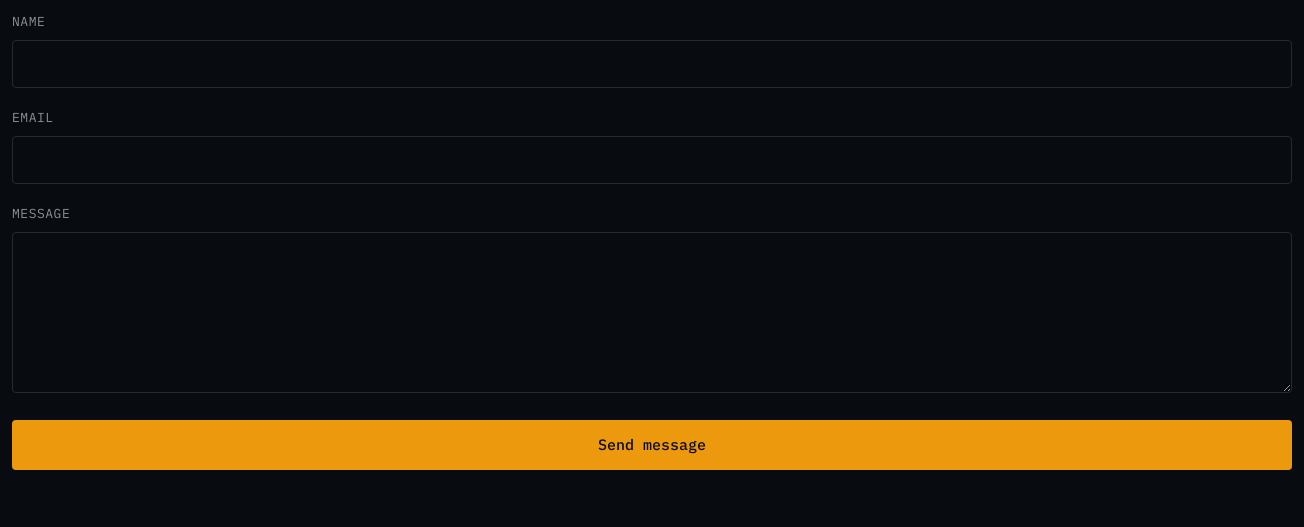
Scenario: ContactForm › reports success and clears the form
In the field labelled "Name": coordinates (652, 64) [12, 40, 1292, 88], type "Rej Mediodia"
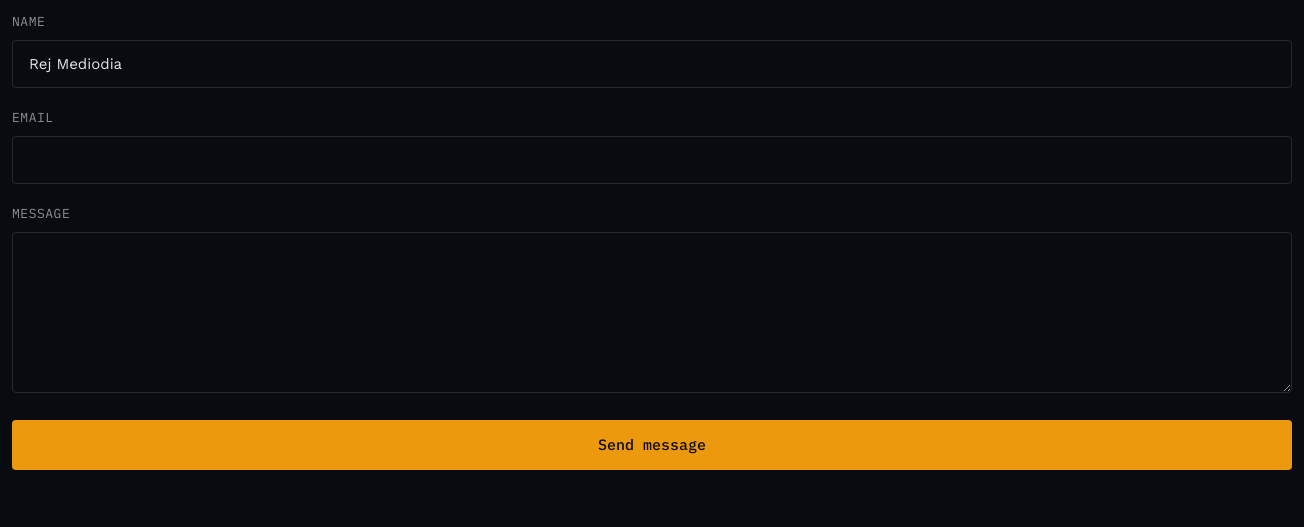
In the field labelled "Email": coordinates (652, 160) [12, 136, 1292, 184], type "someone@example.com"
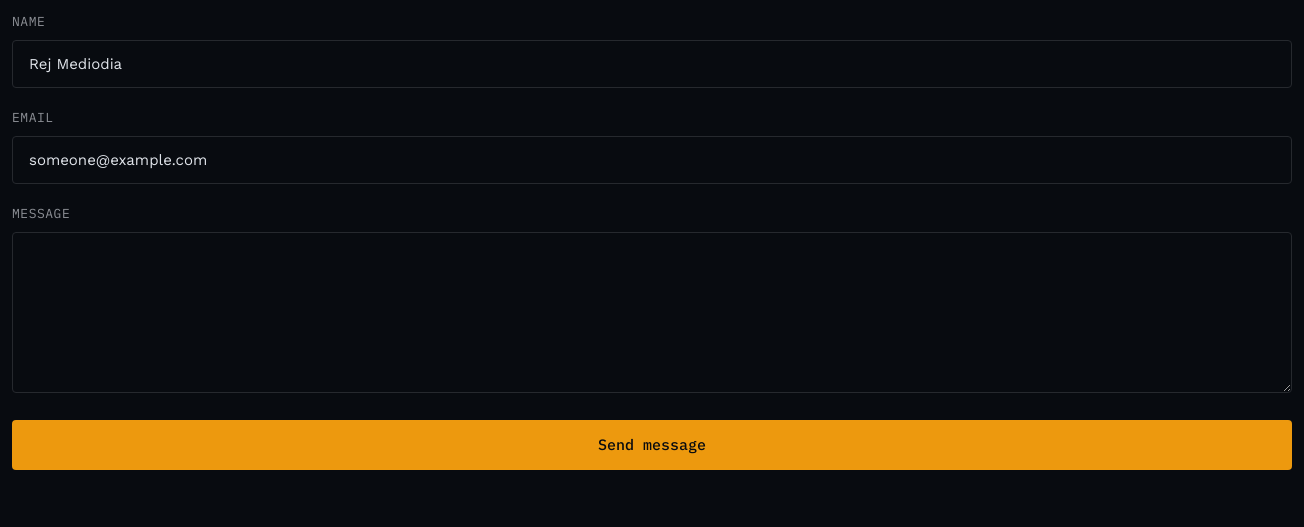
In the text box labelled "Message": coordinates (652, 312) [12, 232, 1292, 392], type "I would like to talk about a project."
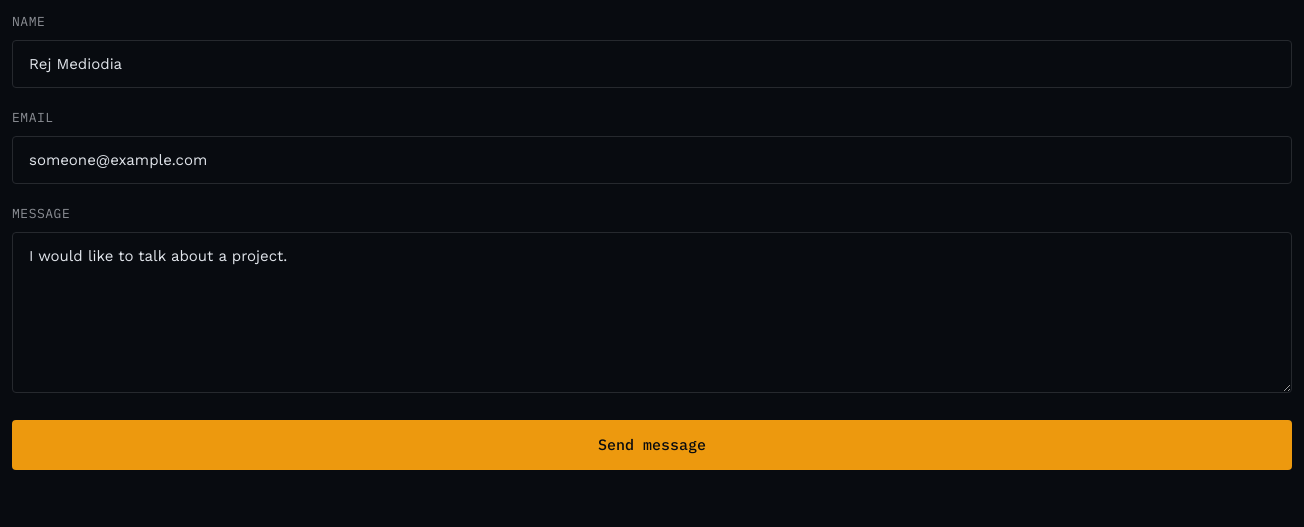
Click the button "Send message": coordinates (652, 445) [12, 420, 1292, 470]
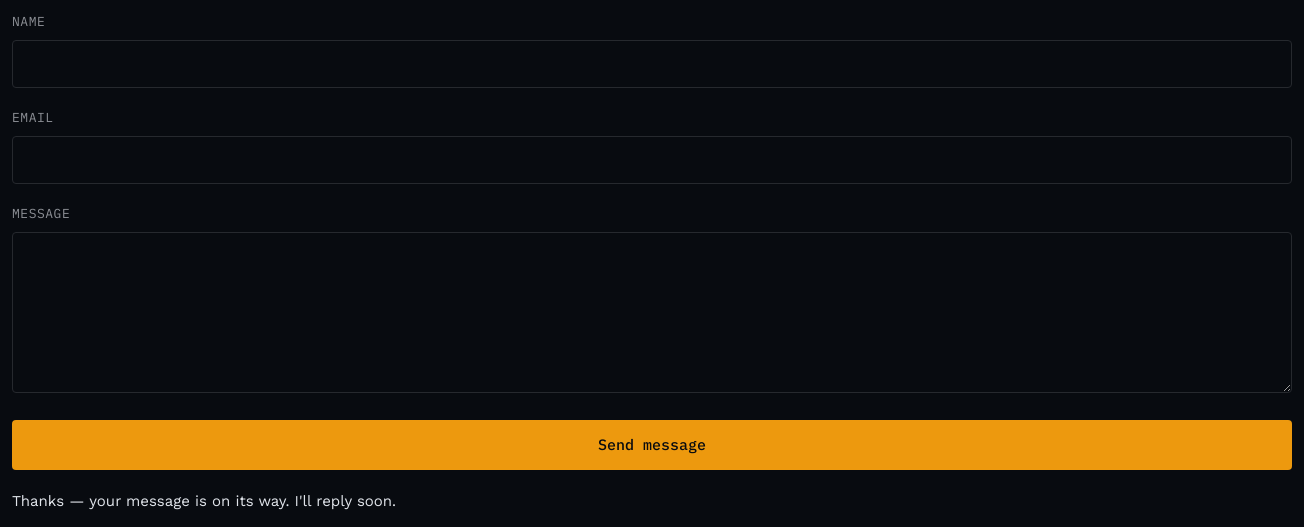
Check: the text "Thanks — your message is on its way. I'll reply soon." is shown, box [12, 492, 396, 510]
Check: the field labelled "Name" is empty, box [12, 40, 1292, 88]
Check: the text box labelled "Message" is empty, box [12, 232, 1292, 392]
